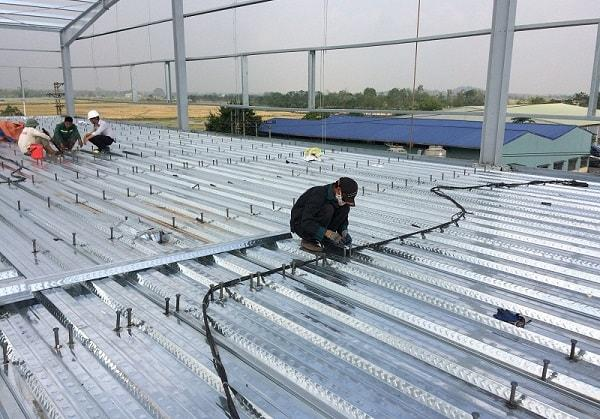Gloves: (332, 230, 352, 243)
Helmet: (337, 175, 357, 204), (24, 118, 38, 127), (87, 109, 99, 119)
Person: (293, 176, 362, 256), (17, 118, 59, 157), (82, 109, 115, 153), (52, 115, 83, 155)
Safety Boot: (300, 237, 323, 251)
no-helmet: (63, 116, 74, 123)
no-vest: (301, 189, 348, 234)
